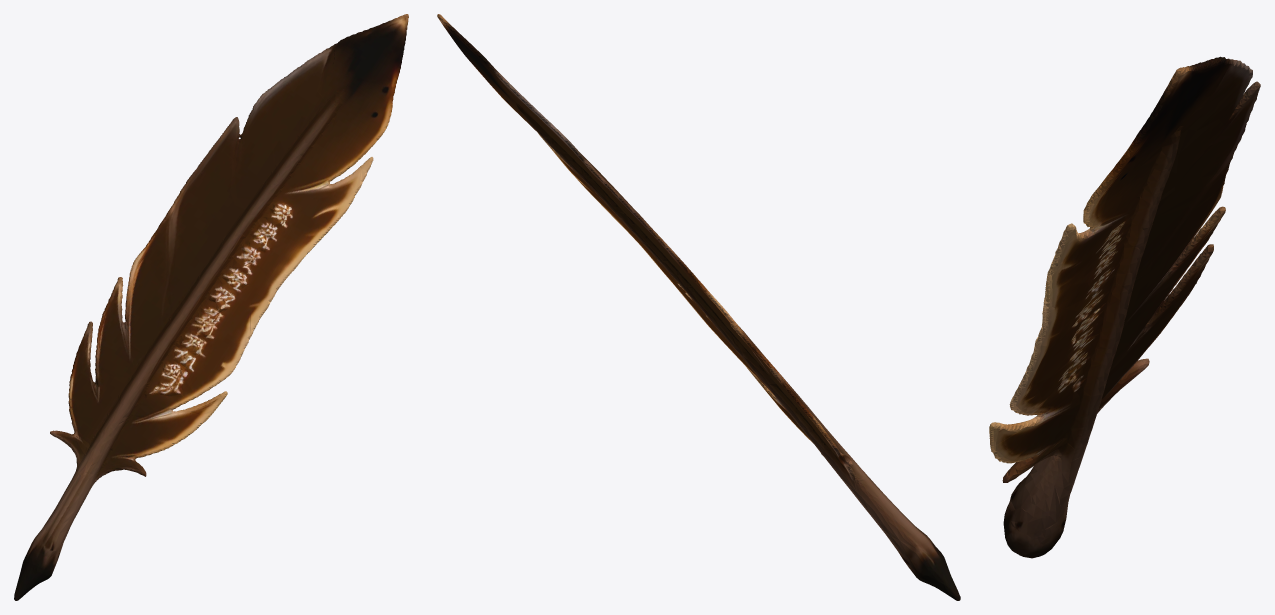
The model's file is item-quill-pen.glb.
3 renders of one model, left to right at view 1: azimuth 30°, elevation 25°; view 2: azimuth 150°, elevation 25°; view 3: azimuth 270°, elevation 25°, orthographic. The views are drawn at different scales.
Parts seen in each view (by area): view 1: material; view 2: material; view 3: material.
Boxes of the visible parts, bbox=[...] form: material: bbox=[14, 14, 408, 600]; material: bbox=[437, 14, 960, 600]; material: bbox=[989, 56, 1260, 558].
Size of the model in its own units: 0.8413 by 0.8412 by 0.2286.
Materials: 1 (1 with a texture image).
